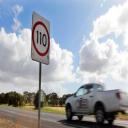speed_limit_110: (32, 21, 50, 57)
